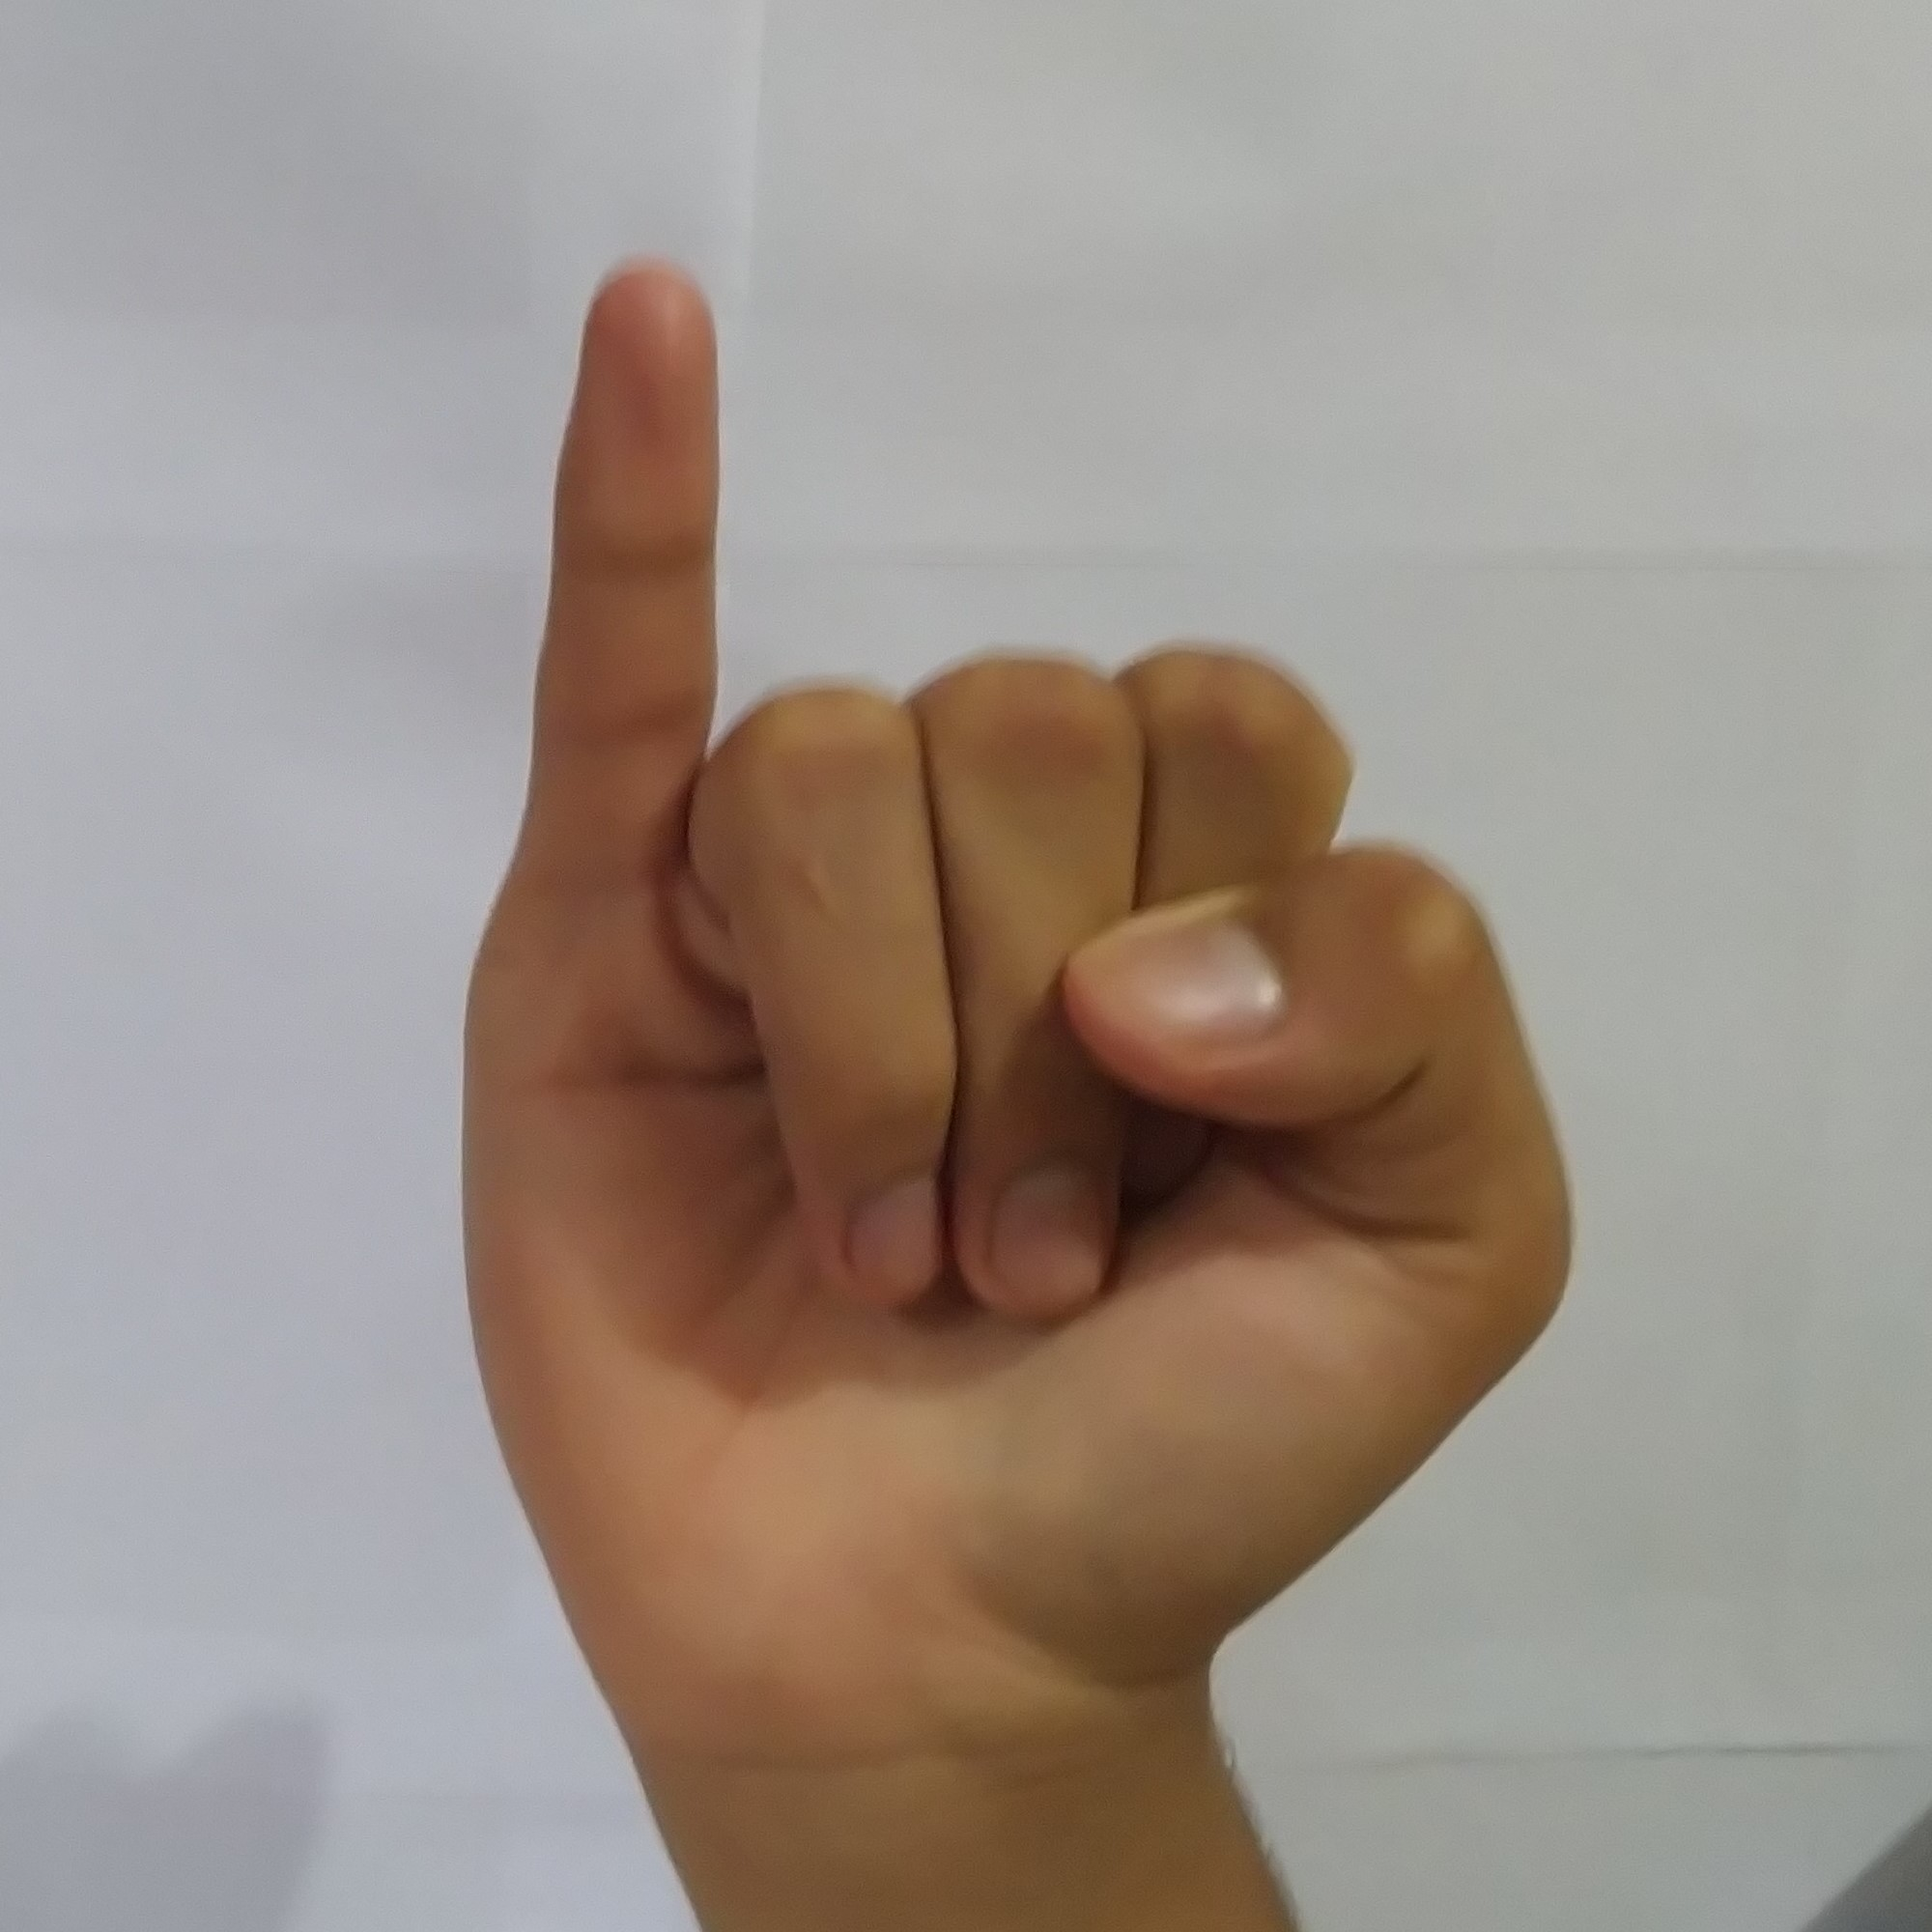I: (421, 230, 1612, 1695)
